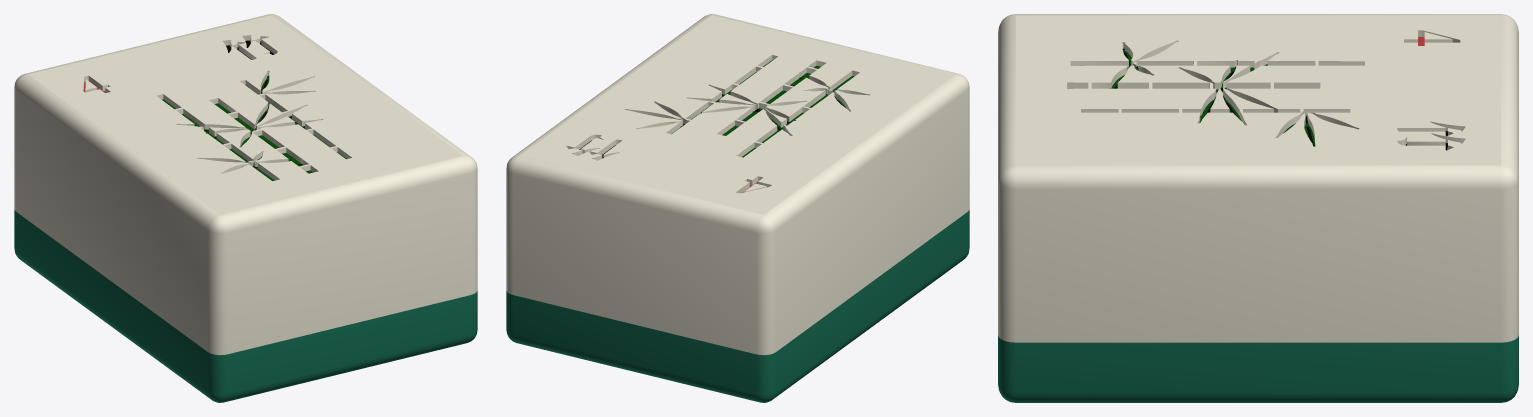
The model's file is Flower4_Bamboo.glb.
3 renders of one model, left to right at view 1: azimuth 30°, elevation 25°; view 2: azimuth 150°, elevation 25°; view 3: azimuth 270°, elevation 25°, orthographic. The views are drawn at different scales.
Visible parts, largest first — view 1: Flower4_Bamboo_body, Flower4_Bamboo_inset; view 2: Flower4_Bamboo_body, Flower4_Bamboo_inset; view 3: Flower4_Bamboo_body, Flower4_Bamboo_inset.
Part boxes in pixels (x1,y1,x2,y2): Flower4_Bamboo_body: (14, 14, 477, 402); Flower4_Bamboo_inset: (83, 40, 346, 180); Flower4_Bamboo_body: (506, 14, 969, 402); Flower4_Bamboo_inset: (579, 60, 854, 192); Flower4_Bamboo_body: (998, 14, 1518, 402); Flower4_Bamboo_inset: (1111, 37, 1447, 150).
Bounding box in the file's own units: 0.024 × 0.016 × 0.032.
